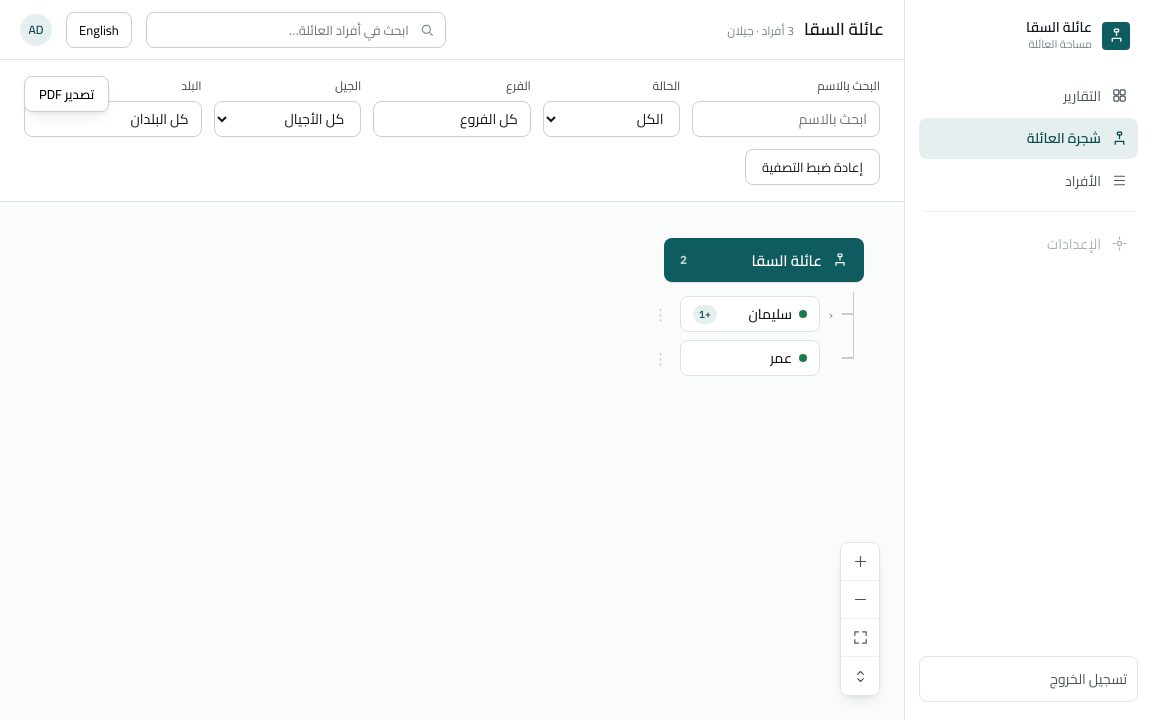
Test: TreePage › keeps a collapsed branch hidden until it is expanded
Expected: the text "سليمان" is shown, x1=748 y1=301 x2=792 y2=327
Expected: the text "فارس" is not shown
Click the button named "توسيع": [831, 314] box x1=820 y1=303 x2=842 y2=325
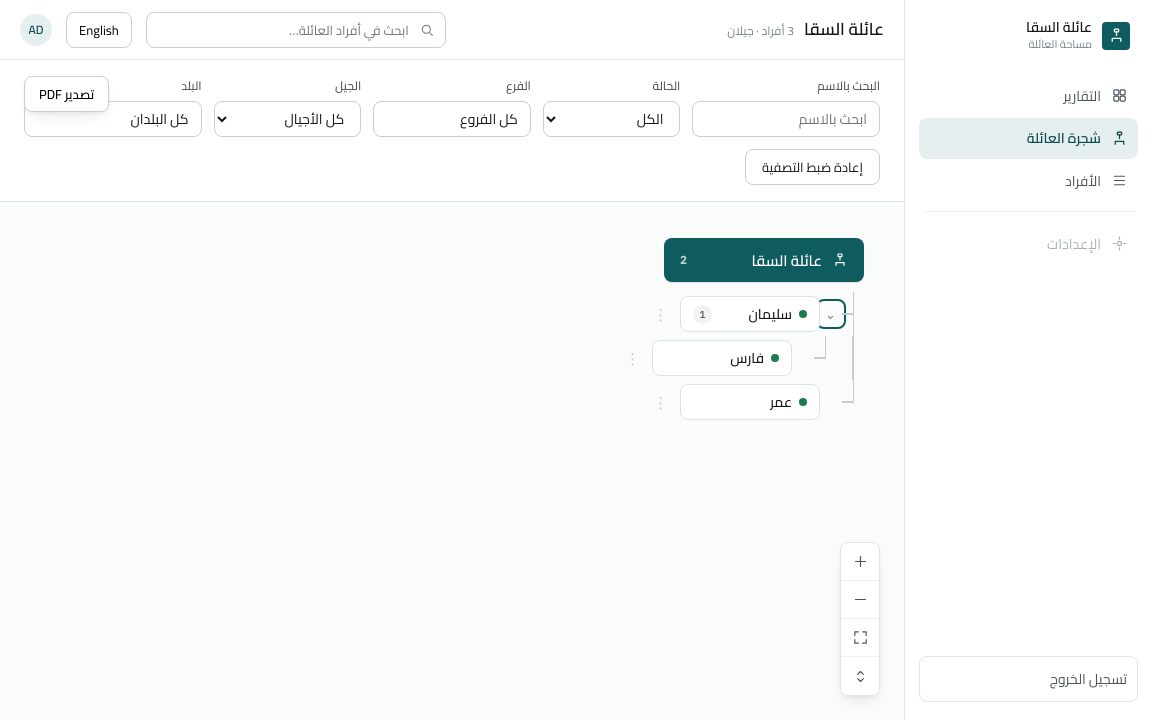
Result: the text "فارس" is shown at x1=730 y1=345 x2=764 y2=371
